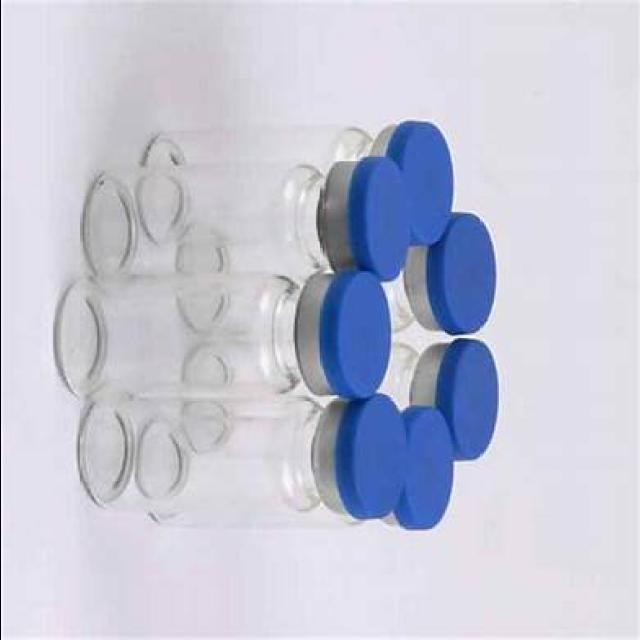vial: (321, 276, 388, 414), (334, 402, 404, 524), (394, 123, 458, 253), (441, 212, 498, 332), (443, 342, 503, 456), (347, 162, 405, 276), (403, 407, 453, 526)
